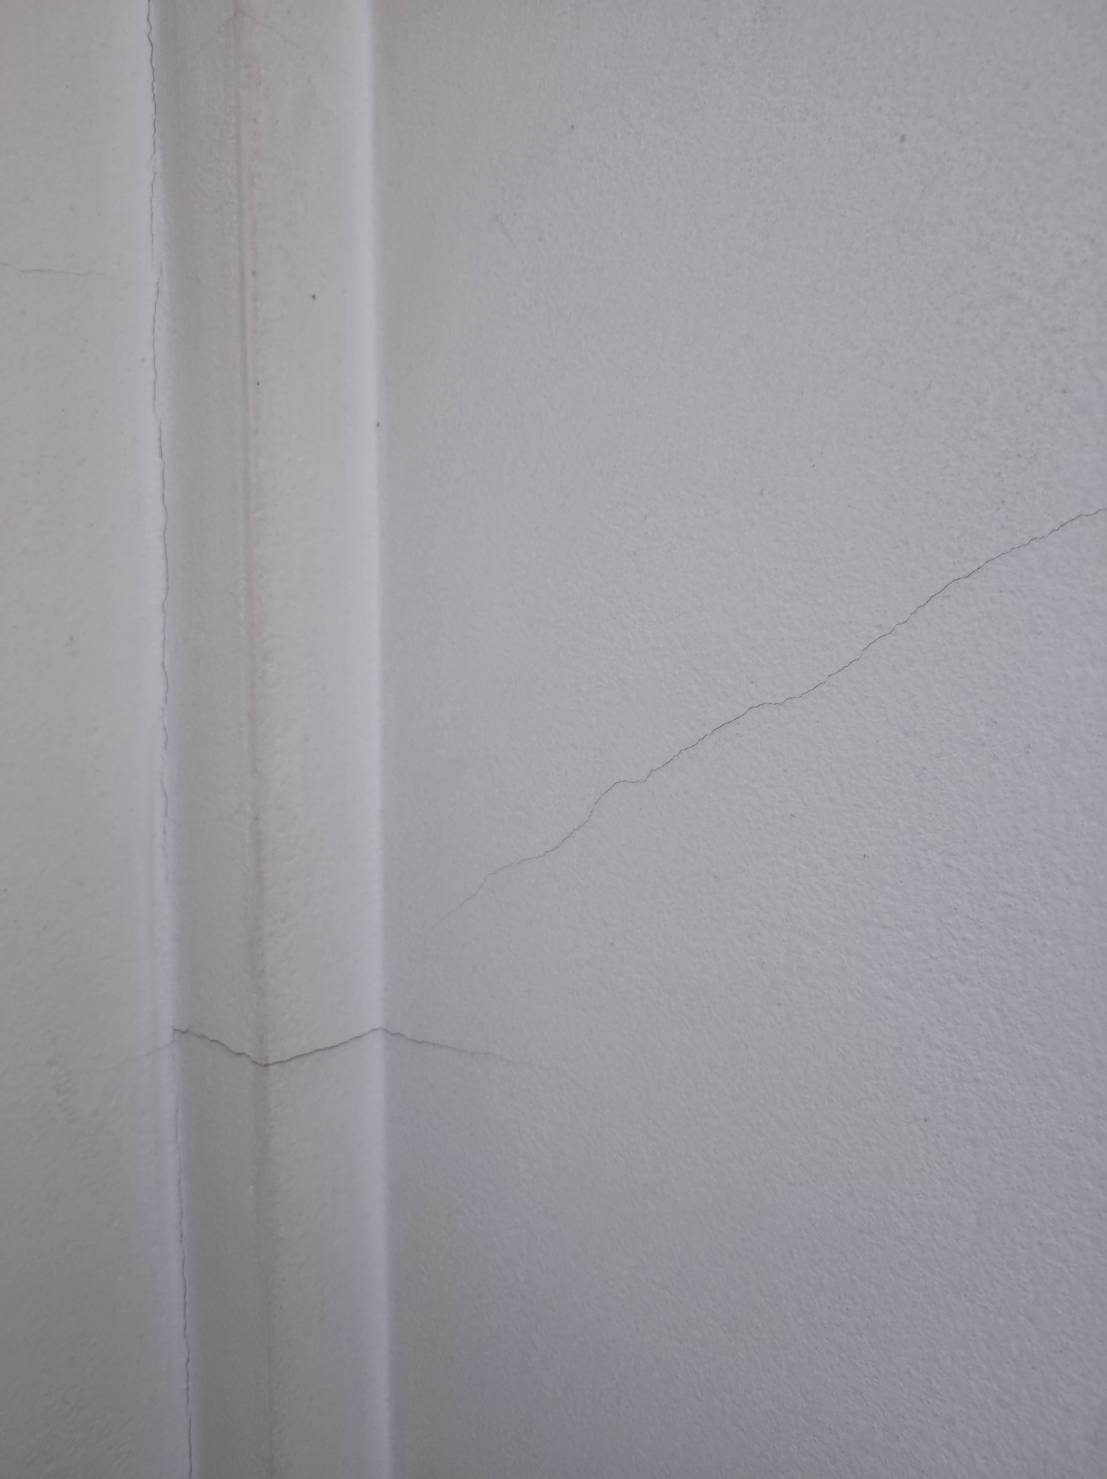Low: (110, 351, 1107, 1083)
